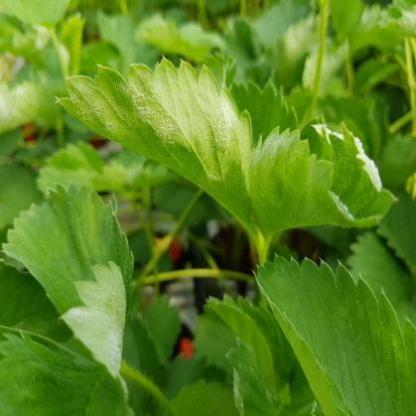Strawberry_Powdery_Mildew_Leaf: (54, 53, 299, 250), (0, 178, 135, 380), (247, 113, 401, 242)
